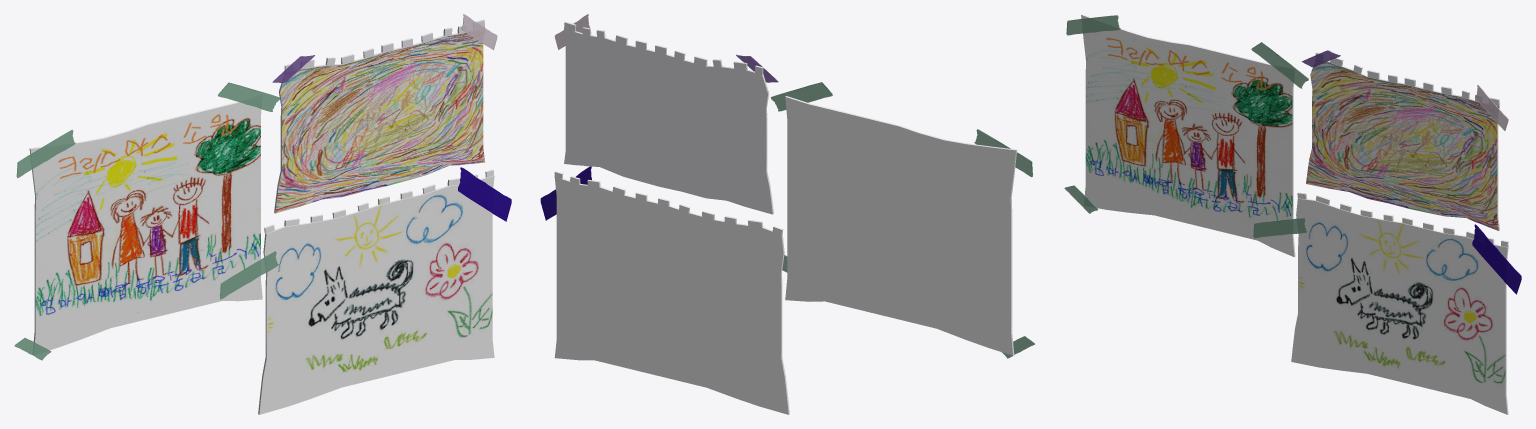
Rendered from Drawings.fbx.
3 renders of one model, left to right at view 1: azimuth 30°, elevation 25°; view 2: azimuth 150°, elevation 25°; view 3: azimuth 330°, elevation 25°, orthographic. The views are drawn at different scales.
Parts seen in each view (by area): view 1: group35_pasted__polySurface14; view 2: group35_pasted__polySurface14; view 3: group35_pasted__polySurface14.
Boxes of the visible parts, <box> form: group35_pasted__polySurface14: <box>14,14,511,414</box>; group35_pasted__polySurface14: <box>540,14,1034,414</box>; group35_pasted__polySurface14: <box>1064,14,1521,414</box>.
Bounding box in the file's own units: 35.65 × 24.12 × 0.3299.
10 materials, 3 textured.
